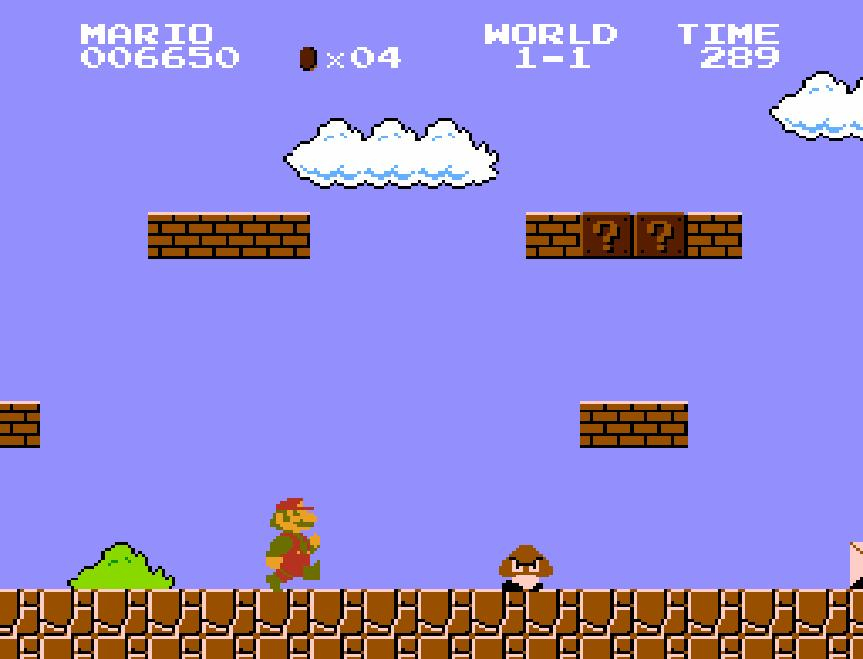big_mario: (264, 496, 322, 594)
